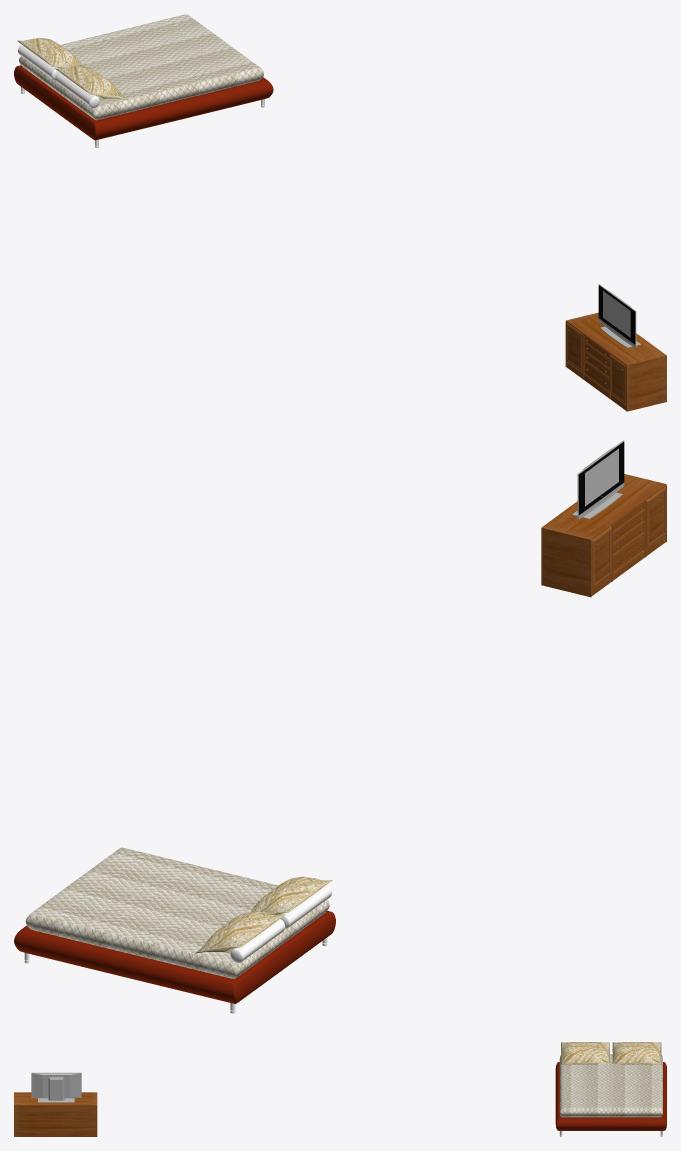
The model's file is bed.obj.
3 renders of one model, top to bottom at view 1: azimuth 30°, elevation 25°; view 2: azimuth 150°, elevation 25°; view 3: azimuth 270°, elevation 25°, orthographic. The views are drawn at different scales.
Visible parts, largest first — view 1: bed001, xiyiji06; view 2: bed001, xiyiji06; view 3: bed001, xiyiji06.
Boxes of the visible parts, left/top/right/bottom form: bed001: left=14, top=14, right=273, bottom=147; xiyiji06: left=565, top=284, right=666, bottom=411; bed001: left=14, top=847, right=335, bottom=1013; xiyiji06: left=541, top=440, right=666, bottom=597; bed001: left=555, top=1042, right=666, bottom=1136; xiyiji06: left=14, top=1072, right=97, bottom=1136.
Size of the model in its own units: 2.19 by 0.9945 by 10.12.
Materials: 9 (7 with a texture image).
